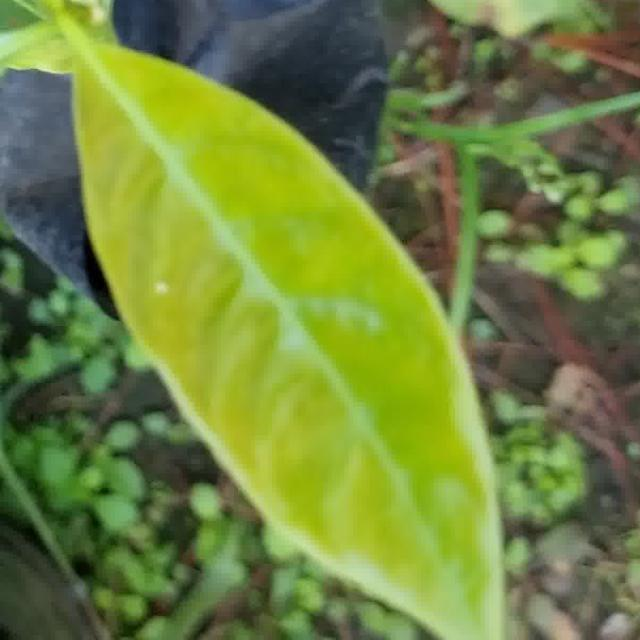leaves: (0, 0, 637, 640)
